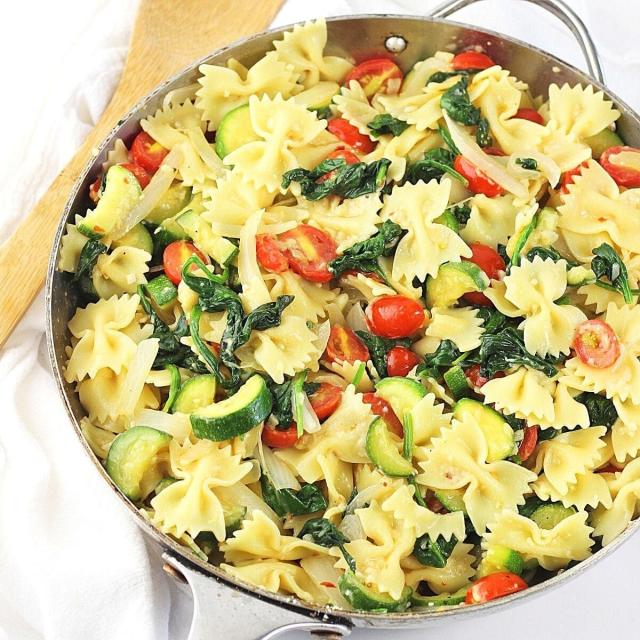pasta: (145, 98, 570, 559)
